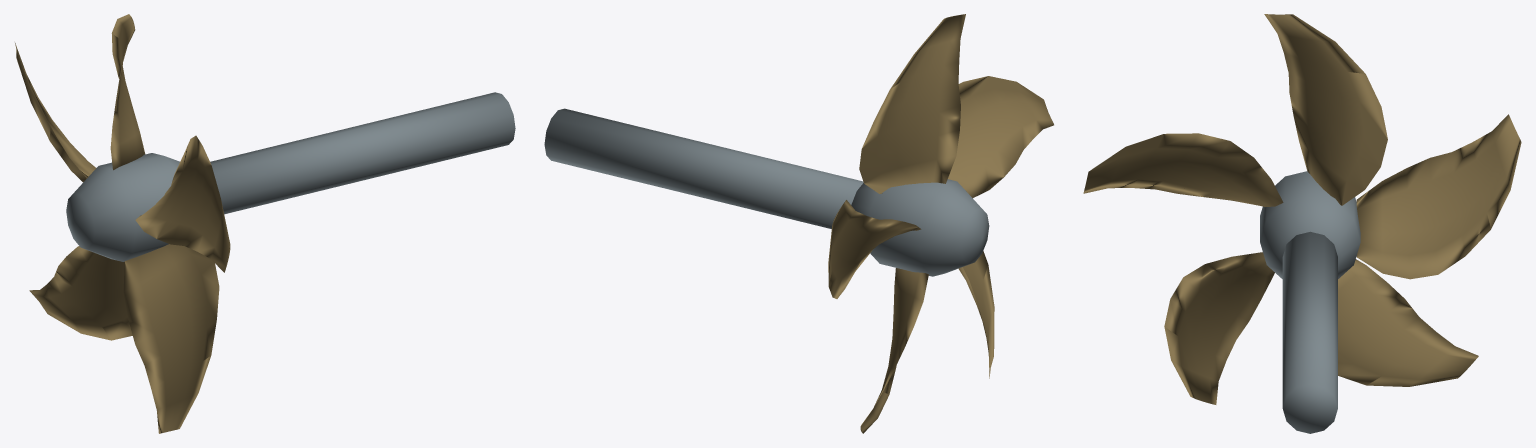
File: PROP_T04_SKEWED_LOD2.fbx
3 views of the same model, side by side, from view 1: azimuth 30°, elevation 25°; view 2: azimuth 150°, elevation 25°; view 3: azimuth 270°, elevation 25° (orthographic). The views are drawn at different scales.
Visible parts, largest first — view 1: PROP_T04_SKEWED_LOD2_Shaft.001, PROP_T04_SKEWED_LOD2_Blade_03.001, PROP_T04_SKEWED_LOD2_Hub.001, PROP_T04_SKEWED_LOD2_Blade_02.001, PROP_T04_SKEWED_LOD2_Blade_04.001, PROP_T04_SKEWED_LOD2_Blade_01.001, PROP_T04_SKEWED_LOD2_Blade_00.001; view 2: PROP_T04_SKEWED_LOD2_Shaft.001, PROP_T04_SKEWED_LOD2_Blade_01.001, PROP_T04_SKEWED_LOD2_Hub.001, PROP_T04_SKEWED_LOD2_Blade_02.001, PROP_T04_SKEWED_LOD2_Blade_00.001, PROP_T04_SKEWED_LOD2_Blade_04.001, PROP_T04_SKEWED_LOD2_Blade_03.001; view 3: PROP_T04_SKEWED_LOD2_Blade_00.001, PROP_T04_SKEWED_LOD2_Blade_01.001, PROP_T04_SKEWED_LOD2_Blade_04.001, PROP_T04_SKEWED_LOD2_Shaft.001, PROP_T04_SKEWED_LOD2_Blade_03.001, PROP_T04_SKEWED_LOD2_Blade_02.001, PROP_T04_SKEWED_LOD2_Hub.001.
Part boxes in pixels (x1,y1,x2,y2): PROP_T04_SKEWED_LOD2_Shaft.001: (210, 92, 515, 214); PROP_T04_SKEWED_LOD2_Blade_03.001: (123, 244, 219, 433); PROP_T04_SKEWED_LOD2_Hub.001: (66, 153, 179, 261); PROP_T04_SKEWED_LOD2_Blade_02.001: (135, 135, 230, 272); PROP_T04_SKEWED_LOD2_Blade_04.001: (29, 246, 132, 340); PROP_T04_SKEWED_LOD2_Blade_01.001: (110, 14, 145, 170); PROP_T04_SKEWED_LOD2_Blade_00.001: (15, 43, 96, 182); PROP_T04_SKEWED_LOD2_Shaft.001: (544, 108, 863, 228); PROP_T04_SKEWED_LOD2_Blade_01.001: (859, 14, 965, 193); PROP_T04_SKEWED_LOD2_Hub.001: (851, 179, 989, 276); PROP_T04_SKEWED_LOD2_Blade_02.001: (948, 76, 1053, 197); PROP_T04_SKEWED_LOD2_Blade_00.001: (828, 200, 921, 298); PROP_T04_SKEWED_LOD2_Blade_04.001: (860, 268, 928, 433); PROP_T04_SKEWED_LOD2_Blade_03.001: (958, 251, 994, 378); PROP_T04_SKEWED_LOD2_Blade_00.001: (1356, 114, 1521, 279); PROP_T04_SKEWED_LOD2_Blade_01.001: (1264, 14, 1387, 205); PROP_T04_SKEWED_LOD2_Blade_04.001: (1338, 259, 1478, 386); PROP_T04_SKEWED_LOD2_Shaft.001: (1282, 231, 1337, 433); PROP_T04_SKEWED_LOD2_Blade_03.001: (1164, 252, 1274, 404); PROP_T04_SKEWED_LOD2_Blade_02.001: (1083, 133, 1283, 206); PROP_T04_SKEWED_LOD2_Hub.001: (1260, 171, 1360, 278).
Size of the model in its own units: 473 by 413 by 411.
